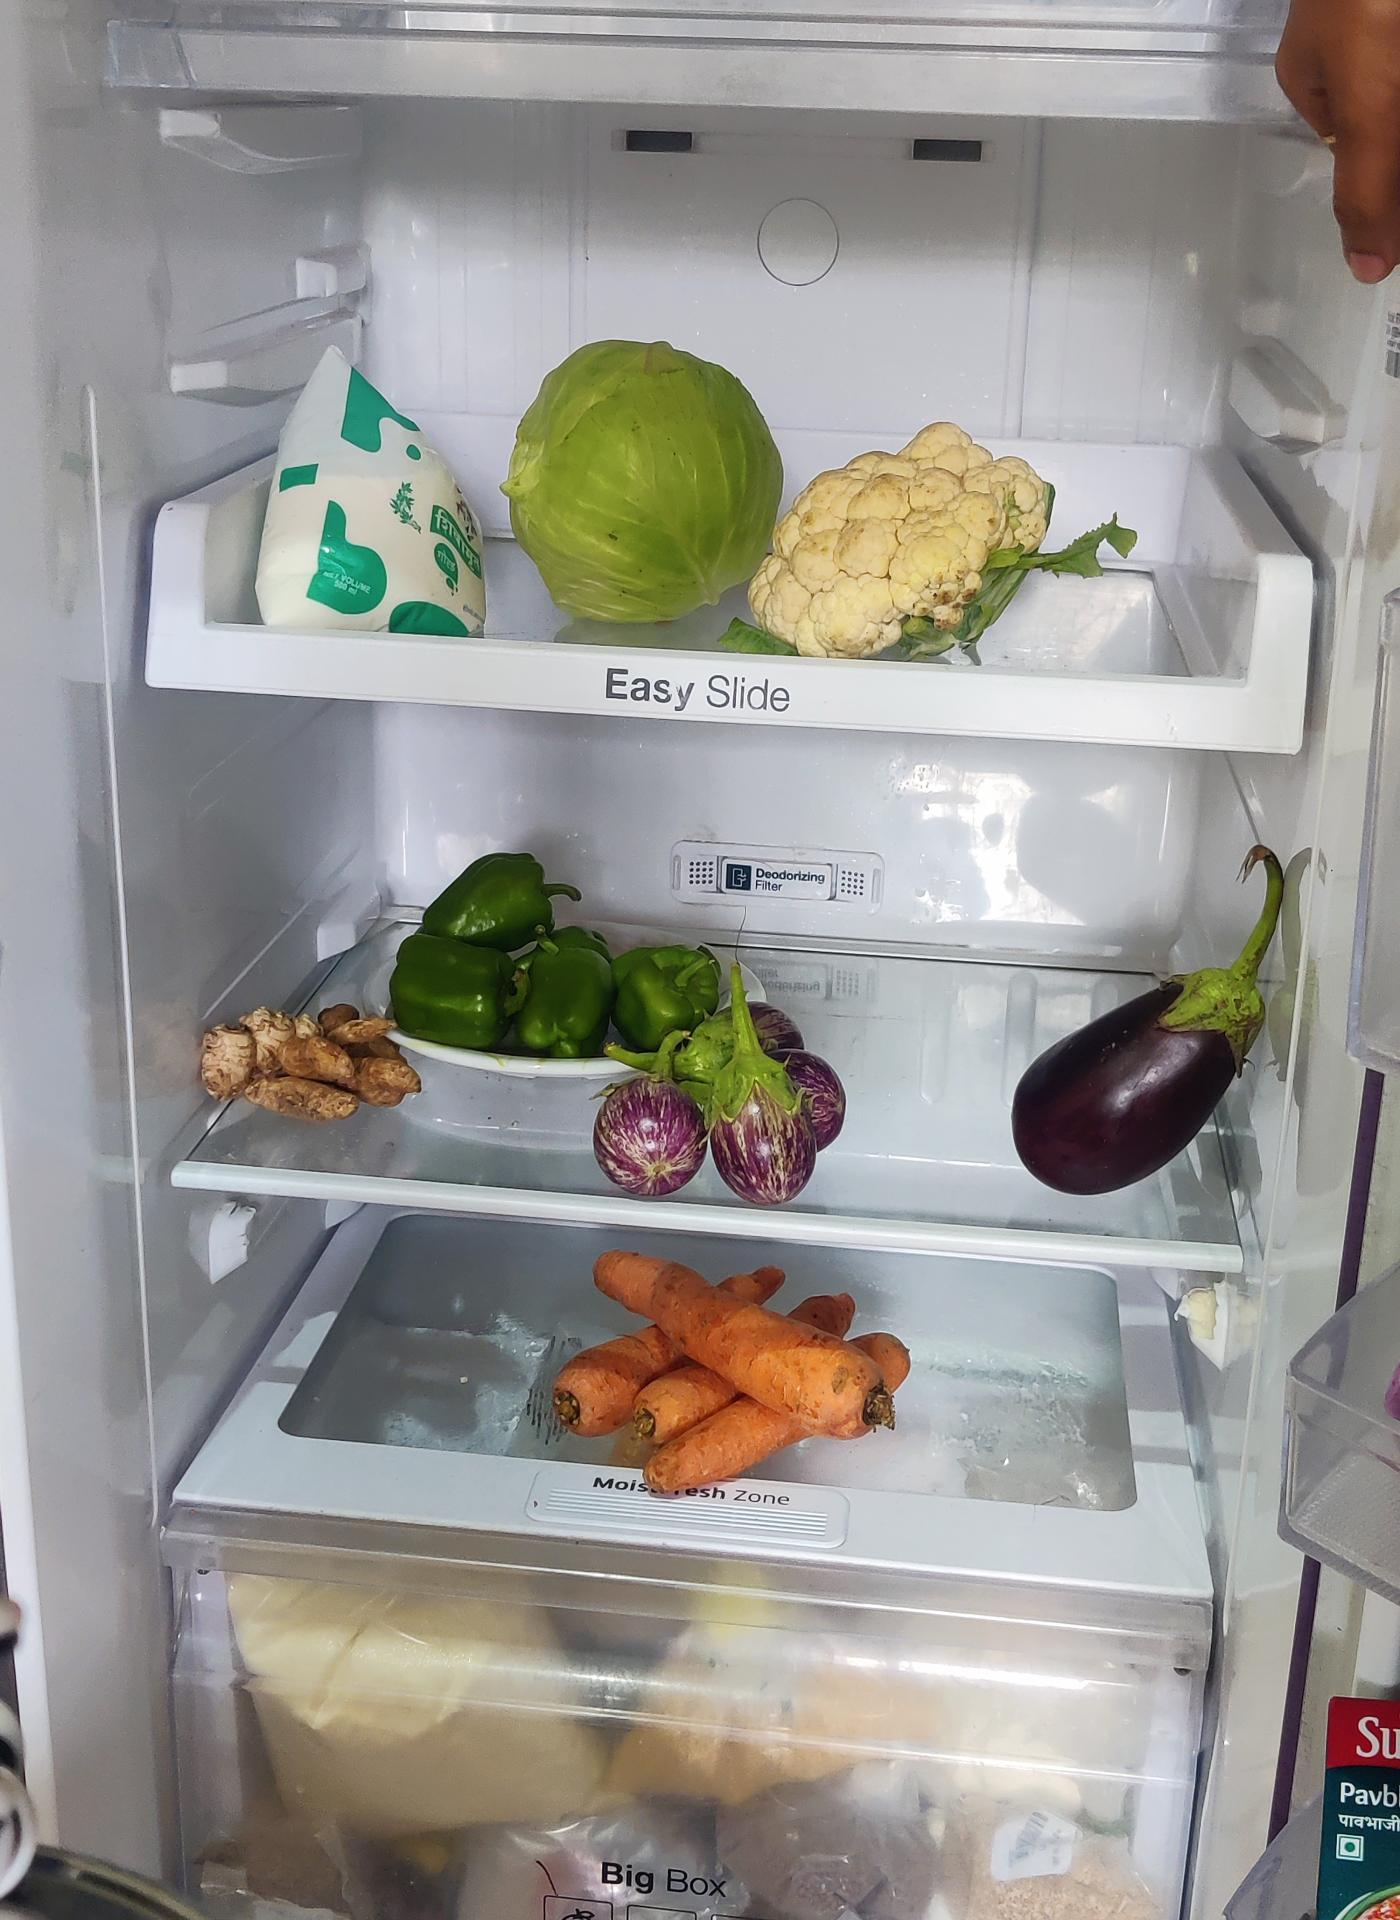brinjal: (1001, 842, 1275, 1191), (606, 998, 848, 1201)
cabbage: (510, 333, 777, 612)
capsicum: (407, 837, 730, 1047)
carrots: (552, 1245, 905, 1495)
cauliflower: (790, 424, 1042, 669)
ginger: (212, 986, 419, 1130)
milk: (258, 352, 494, 634)
